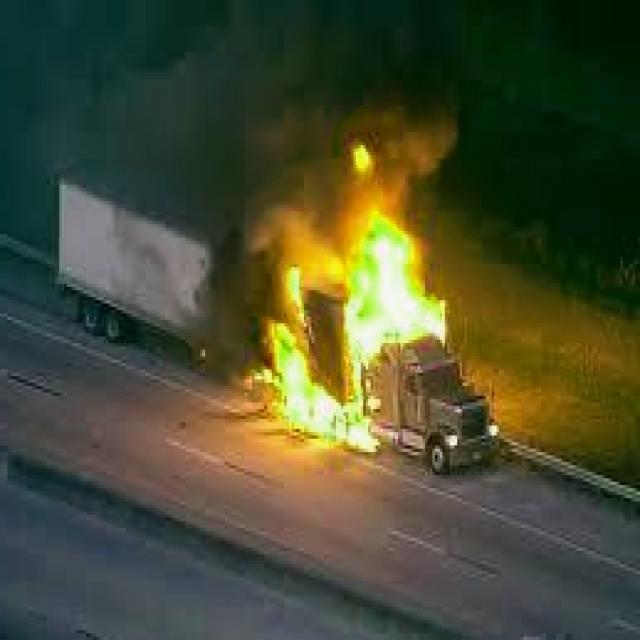fire: (257, 182, 452, 446)
